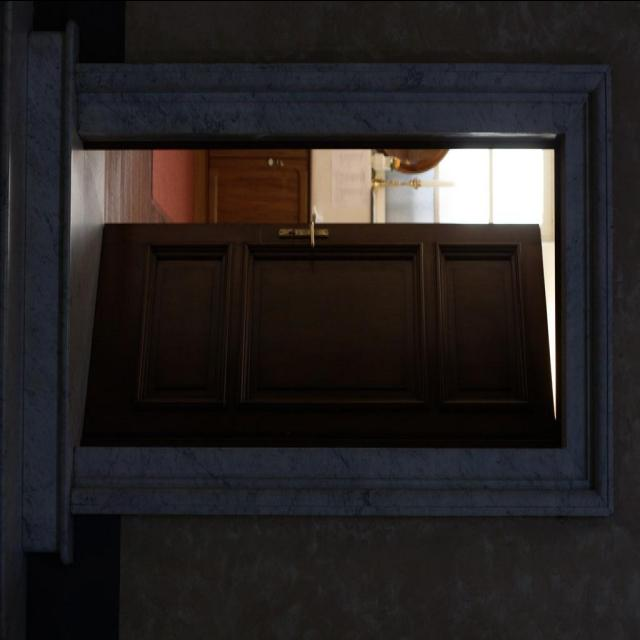open: (87, 136, 578, 452)
